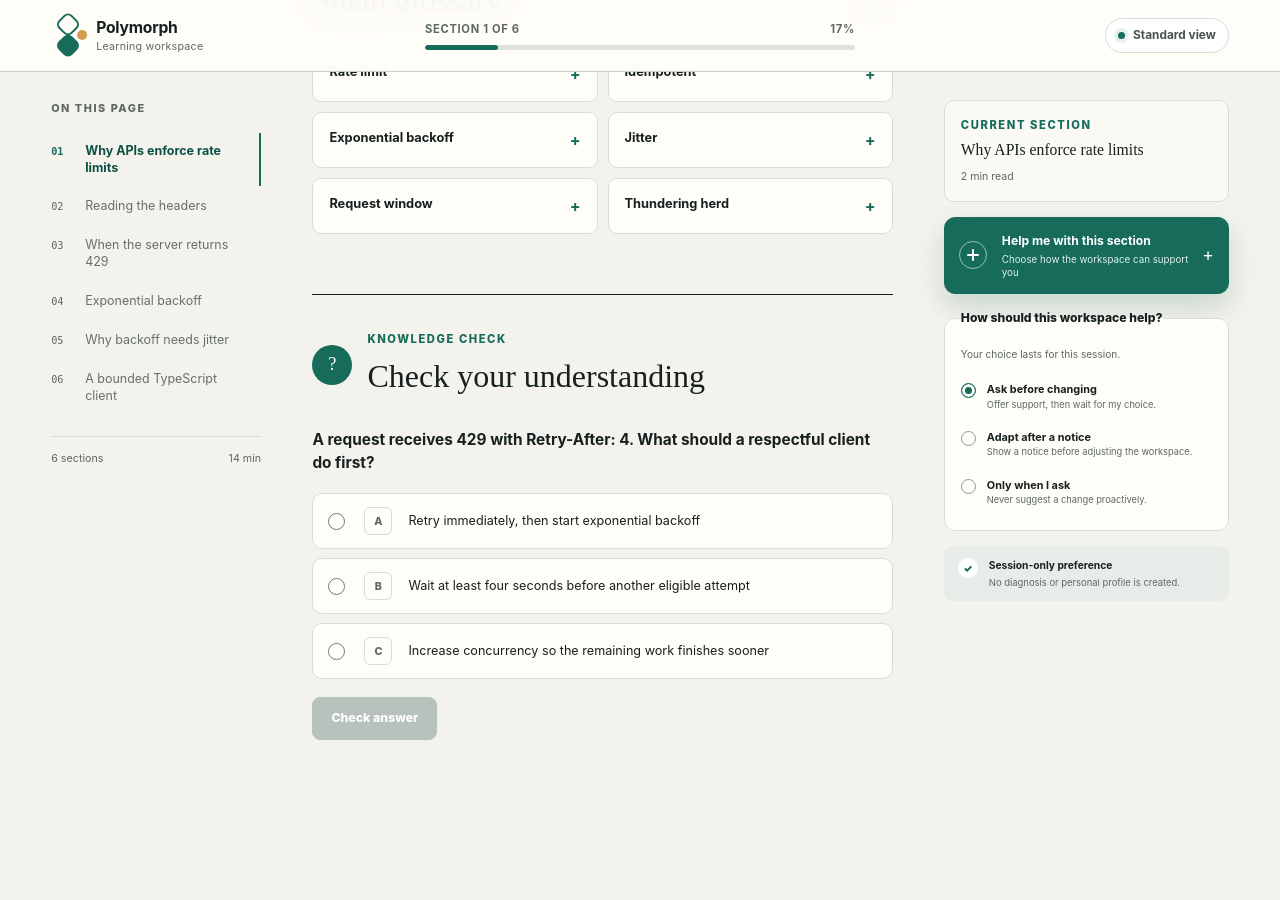
Scenario: BaselineReader › reports correct and incorrect quiz attempts
(page scrolled)
Click the radio button labelled "A Retry immediately, then start exponential backoff" at (337, 521), box [328,513,345,530]
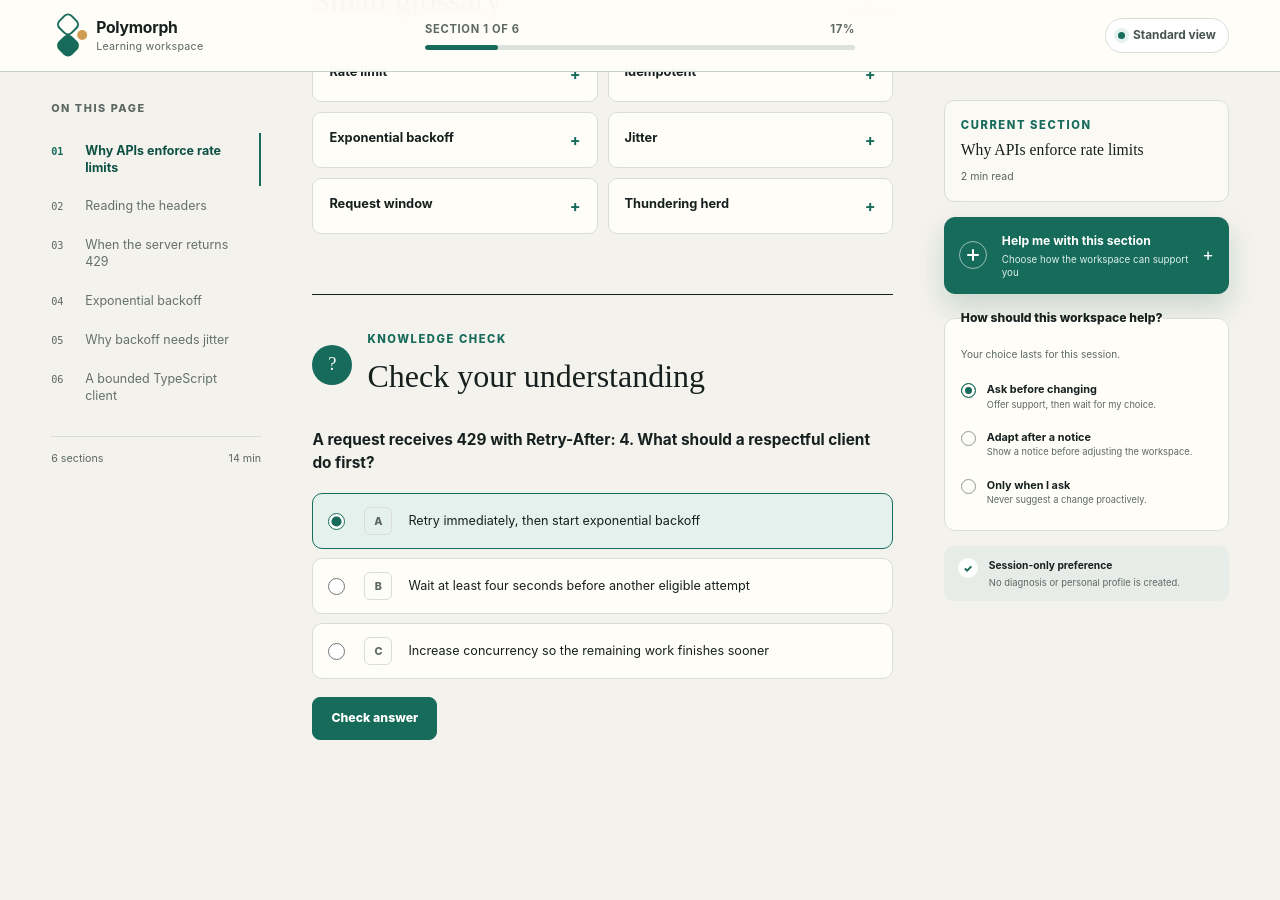
Click the button "Check answer" at (375, 719), box [312,697,437,740]
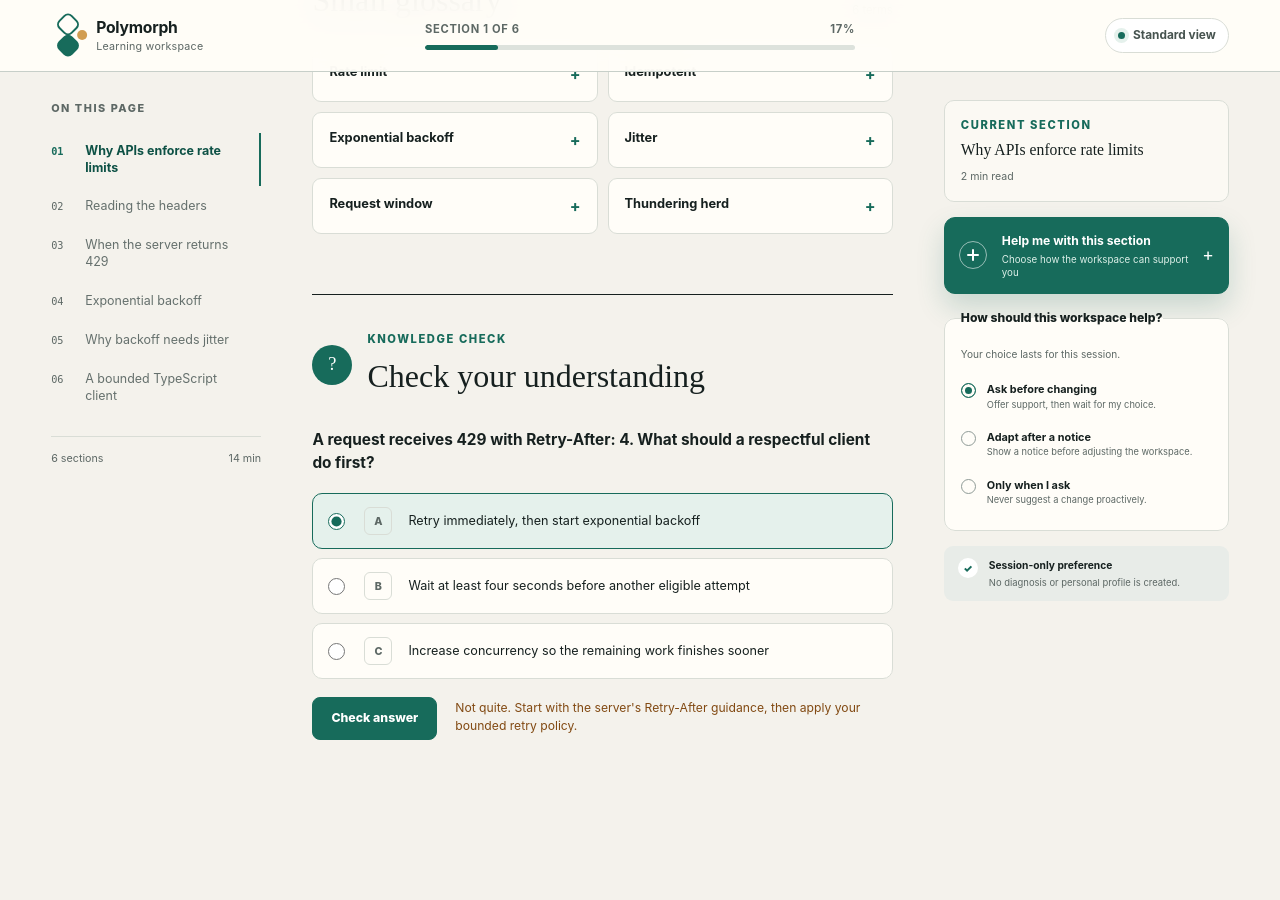
Click the radio button labelled "B Wait at least four seconds before another eligible attempt" at (337, 586), box [328,578,345,595]
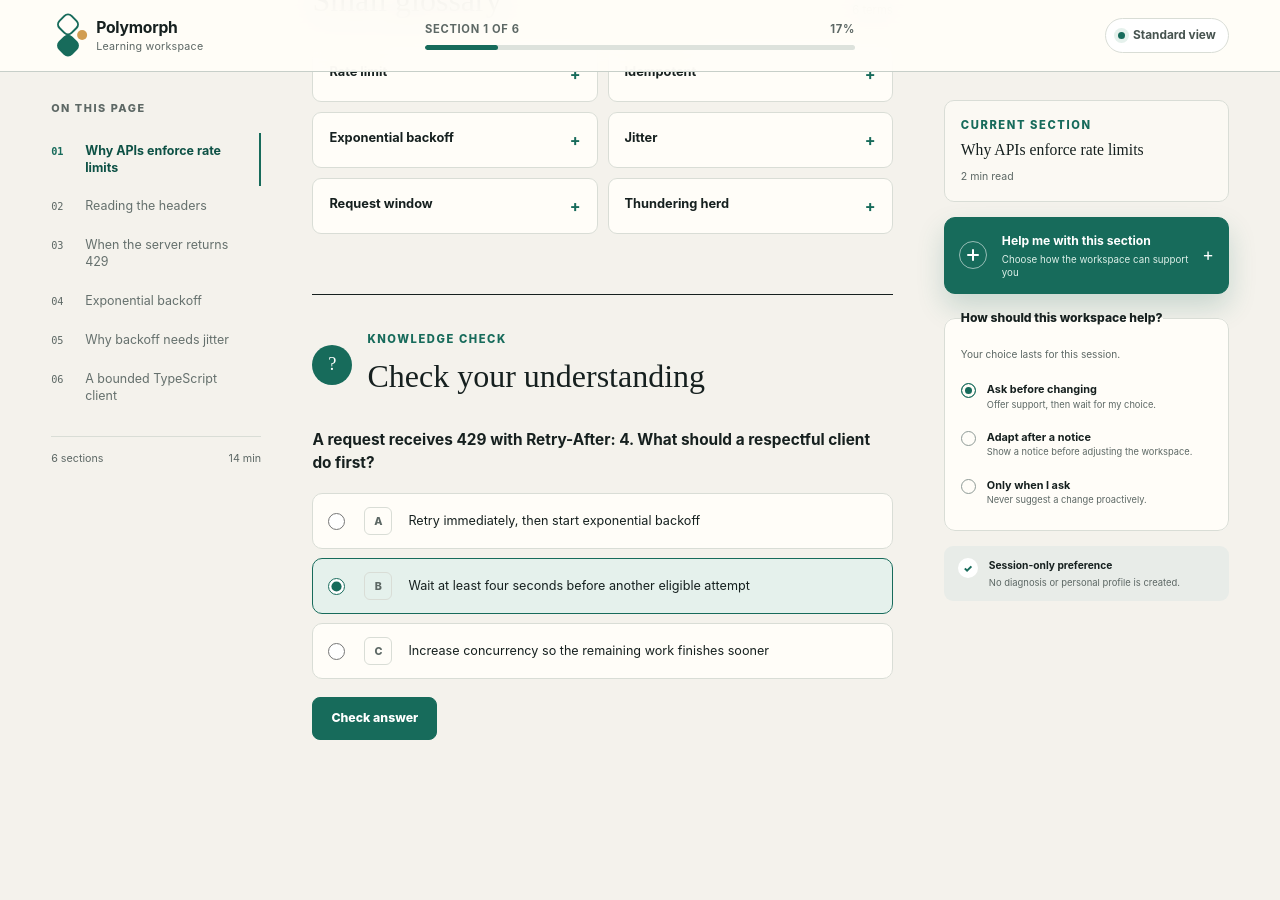
Click the button "Check answer" at (375, 719), box [312,697,437,740]
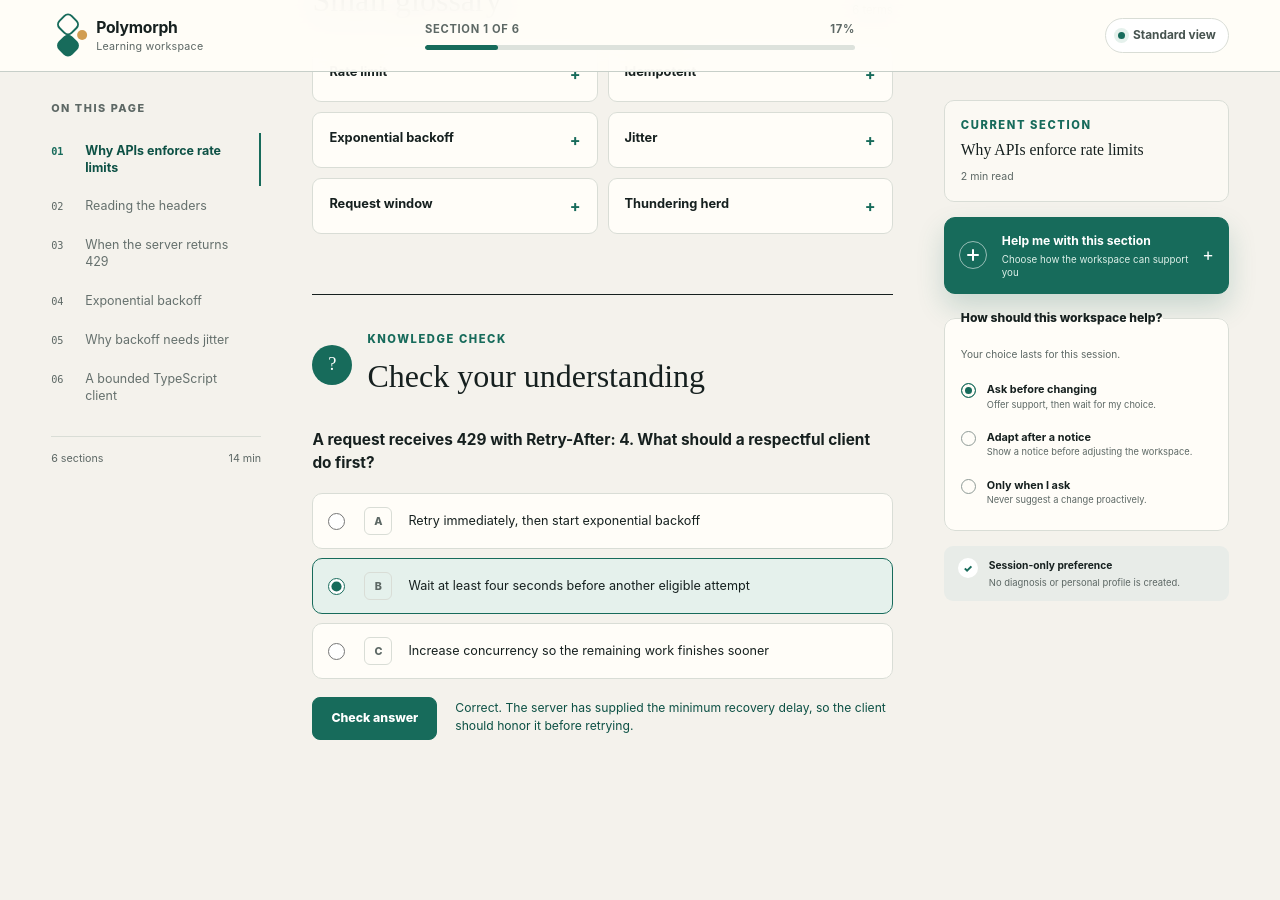
Expected: the text "Correct. The server has supplied" is shown, [455,700,886,733]
